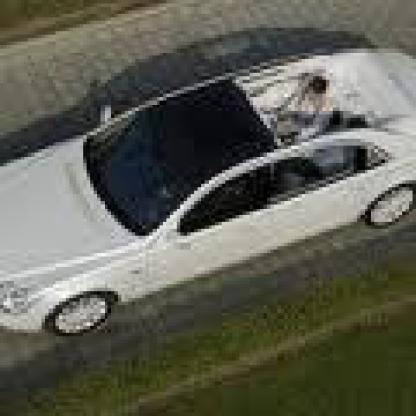Vehicle: (4, 52, 412, 347)
